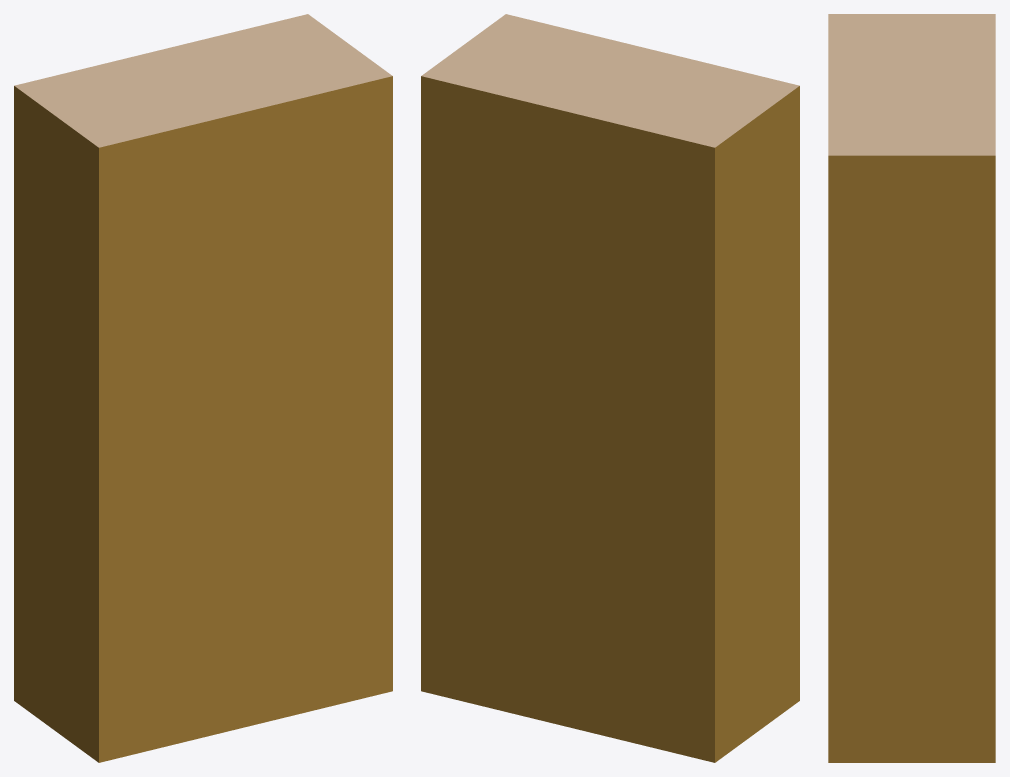
The model's file is Wall-Atl.fbx.
3 views of the same model, side by side, from view 1: azimuth 30°, elevation 25°; view 2: azimuth 150°, elevation 25°; view 3: azimuth 270°, elevation 25° (orthographic).
Visible parts, largest first — view 1: Simple wall; view 2: Simple wall; view 3: Simple wall.
Part boxes in pixels (left/top/right/bottom): Simple wall: left=14, top=14, right=392, bottom=762; Simple wall: left=421, top=14, right=799, bottom=762; Simple wall: left=828, top=14, right=995, bottom=762.
Size of the model in its own units: 200 by 400 by 100.
